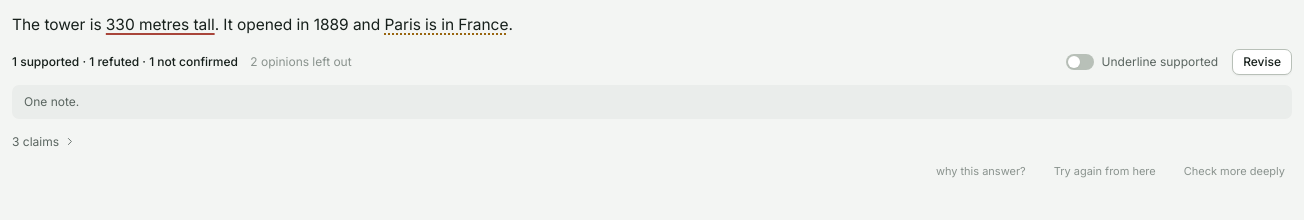
Test: a check that is done › shows why Revise failed
The width and height of the screenshot is (1304, 220).
What coordinates should you click on to do the following:
click the button "Revise"
I would click on:
 (1262, 62)
Its box is 1232,49 -> 1292,75.
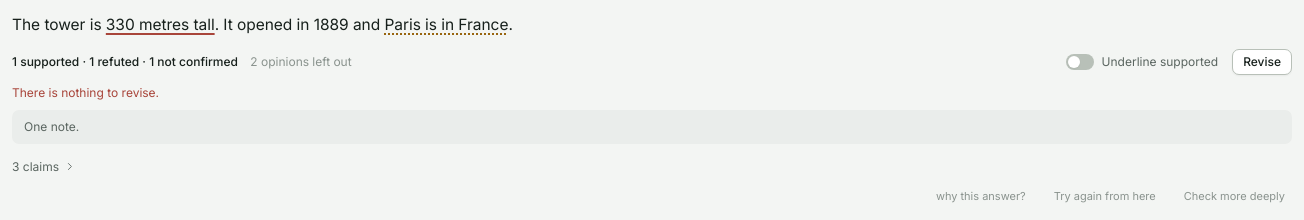
Result: the message "There is nothing to revise." is shown at 12,85 -> 159,100
